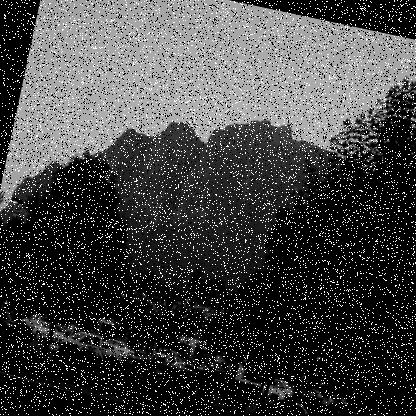Car: (129, 348, 201, 392), (237, 372, 291, 405), (253, 394, 331, 415), (30, 319, 66, 347), (72, 342, 115, 364), (288, 382, 330, 404), (100, 336, 137, 360), (156, 344, 194, 367), (203, 358, 234, 380), (0, 304, 21, 334), (20, 312, 48, 334), (329, 396, 353, 415), (135, 345, 154, 358)
